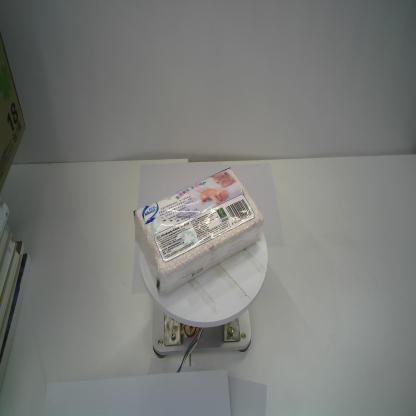Tissue: (134, 166, 264, 297)
